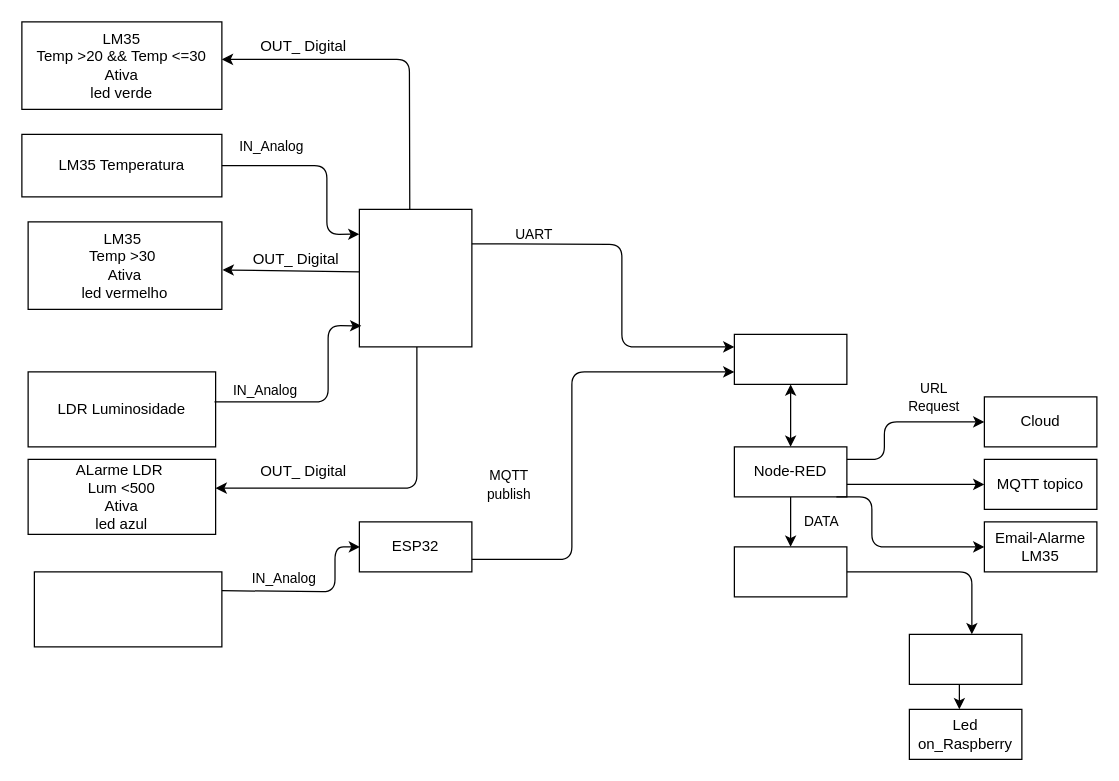
Some shapes in this 1119 by 781 pixel diagram are drawn without their labels. Each missing label, with the centre of its shape:
"Botão" goes at (x=965, y=658).
"DashBoard" goes at (x=790, y=571).
"DHT11 Humidade/Temperatura" goes at (x=127, y=609).
"PIC" goes at (x=415, y=277).
"Raspberry" goes at (x=790, y=358).
